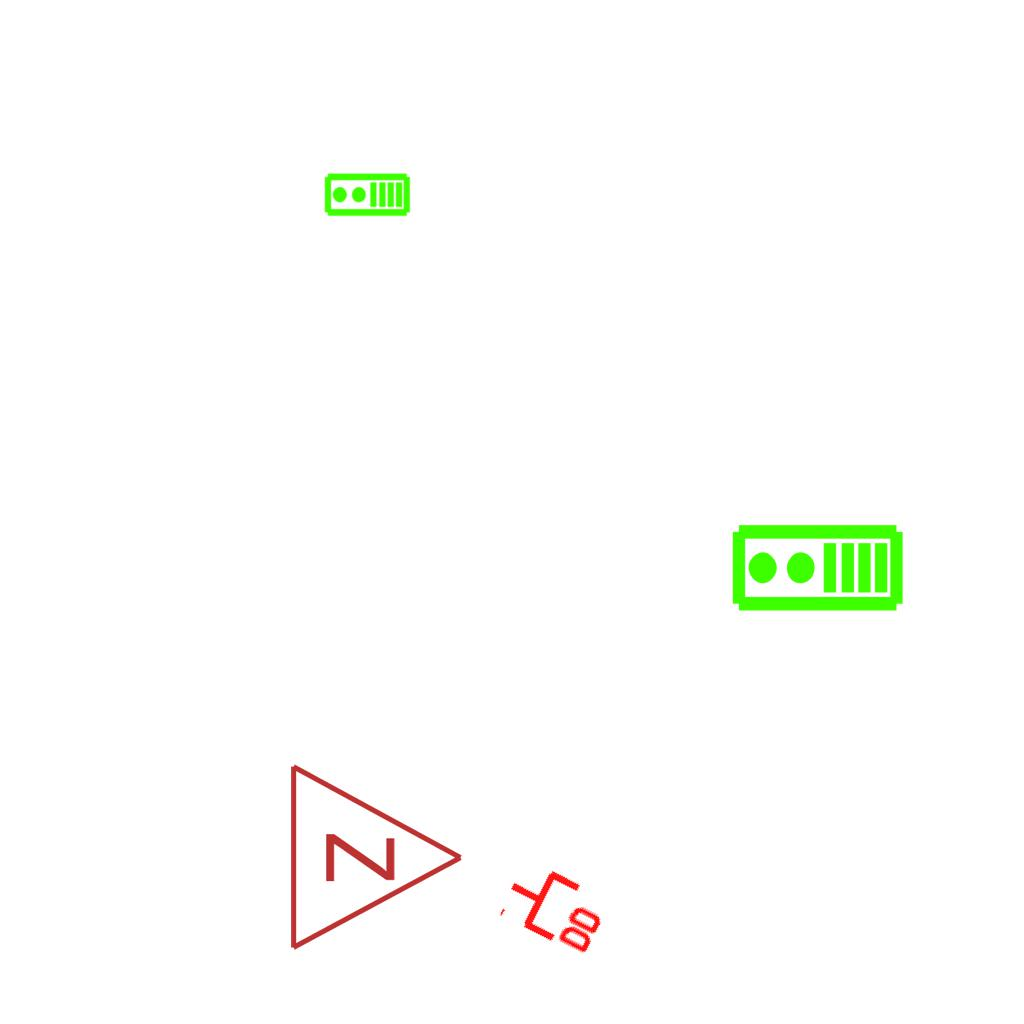Datenanschluss_zweifach: (494, 852, 619, 961)
Gegensprechanlage_mit_Video: (729, 522, 905, 617), (323, 172, 411, 219)
Zimmersignalleuchte: (276, 757, 476, 953)
